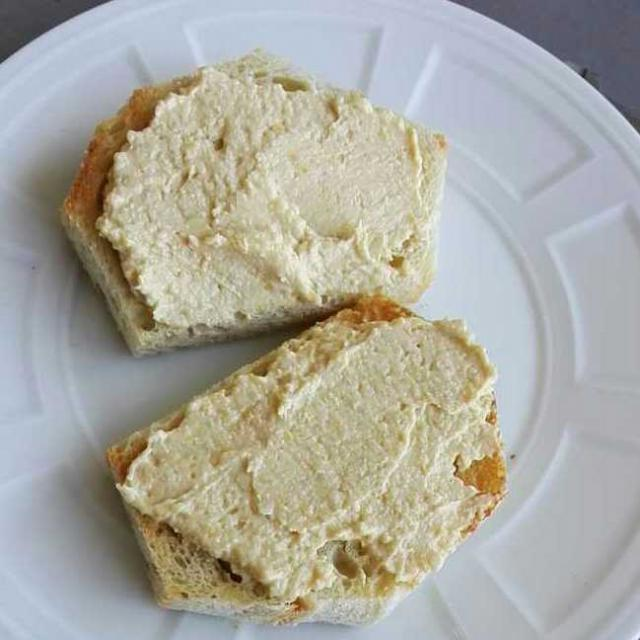bread: (71, 62, 497, 634)
hummus: (134, 86, 484, 608)
